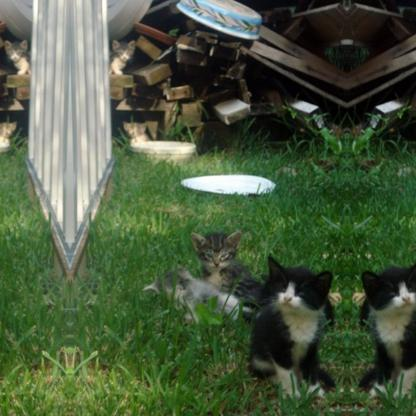Cat: (248, 254, 332, 402), (360, 254, 415, 403), (140, 260, 244, 324), (189, 232, 265, 309)
